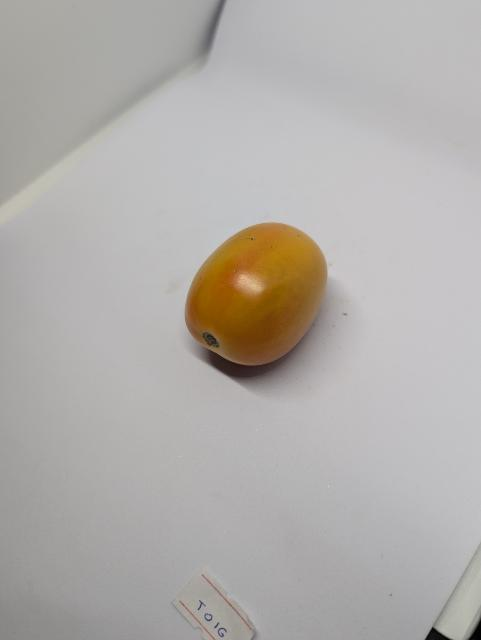turning: (182, 210, 340, 384)
